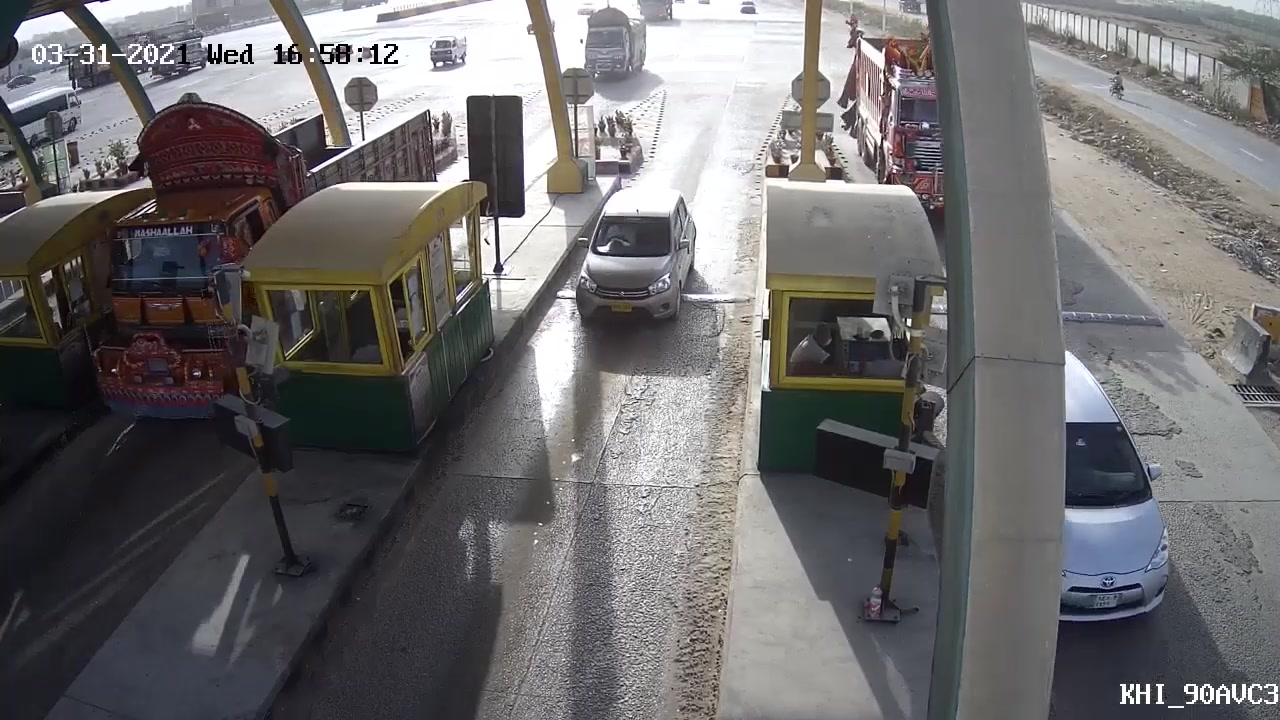F1: (568, 186, 701, 326)
